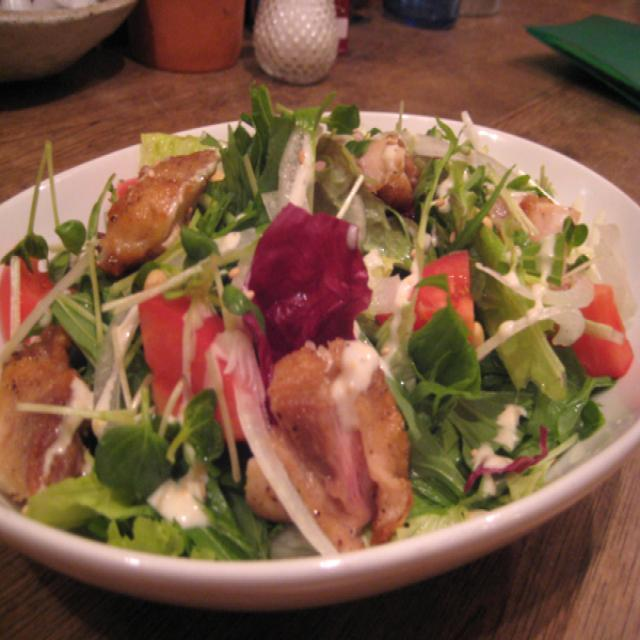Green Salad: (18, 120, 622, 528)
